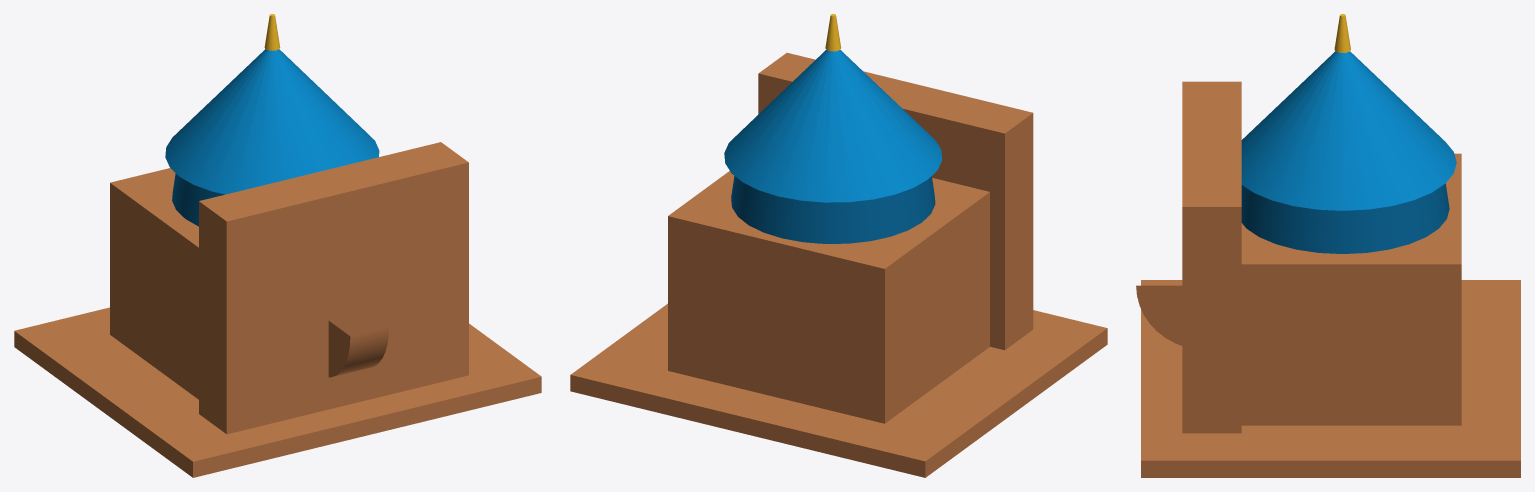
The model's file is jochi-khan.glb.
The picture shows the model from 3 angles, left to right: view 1: azimuth 30°, elevation 25°; view 2: azimuth 150°, elevation 25°; view 3: azimuth 270°, elevation 25°; orthographic projection. The views are drawn at different scales.
Size of the model in its own units: 18 by 17.3 by 16.2.
